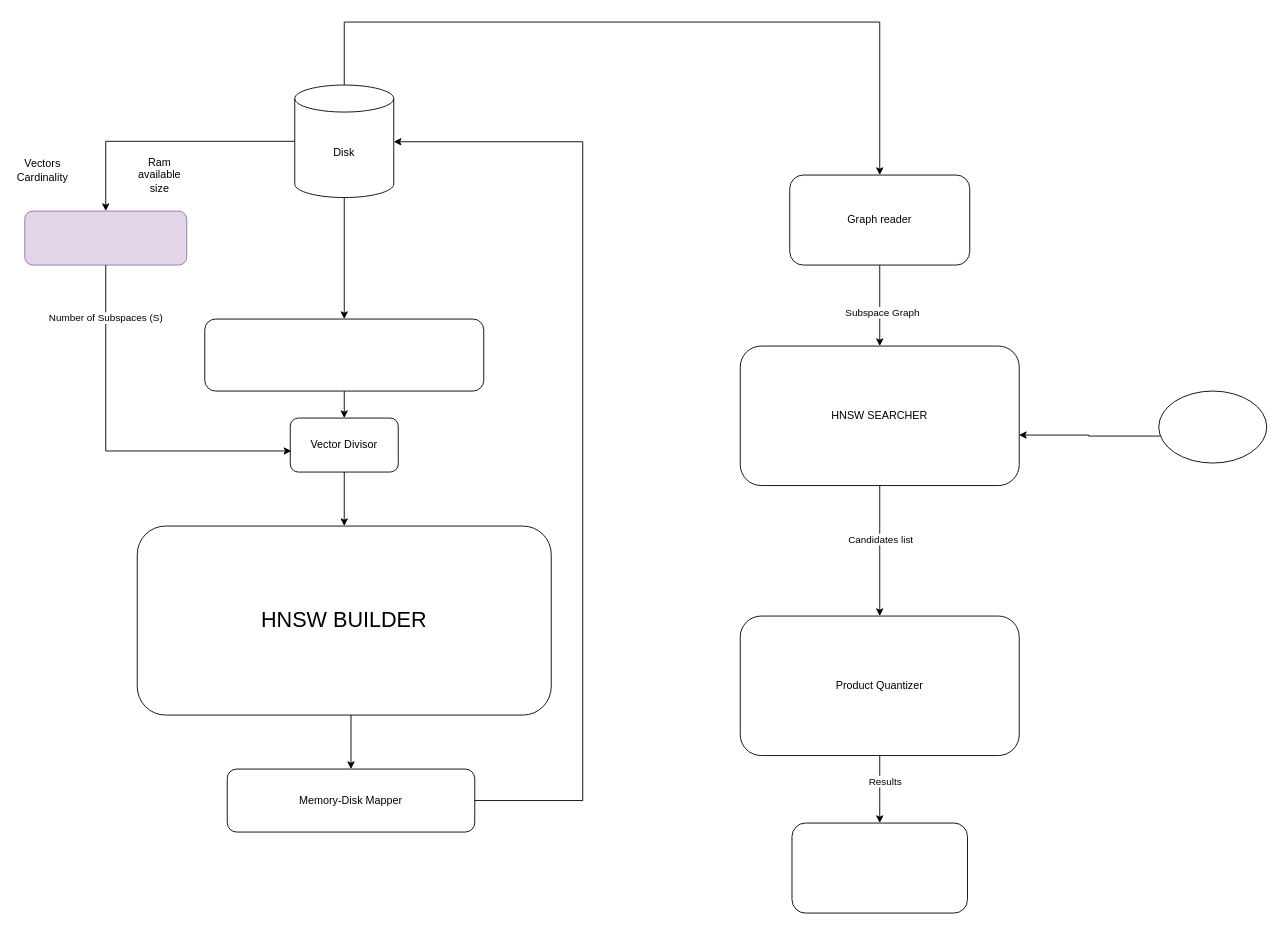
The diagram is 1283 pixels wide and 929 high, and some of its shapes have lost their labels. Here are the shapes that lost their labels. From the top down, the centre of each, then its label:
point 105,237: Subspace number Estimator
point 344,354: Vectors Reader
point 1212,426: Search Query
point 879,867: KNN Results
